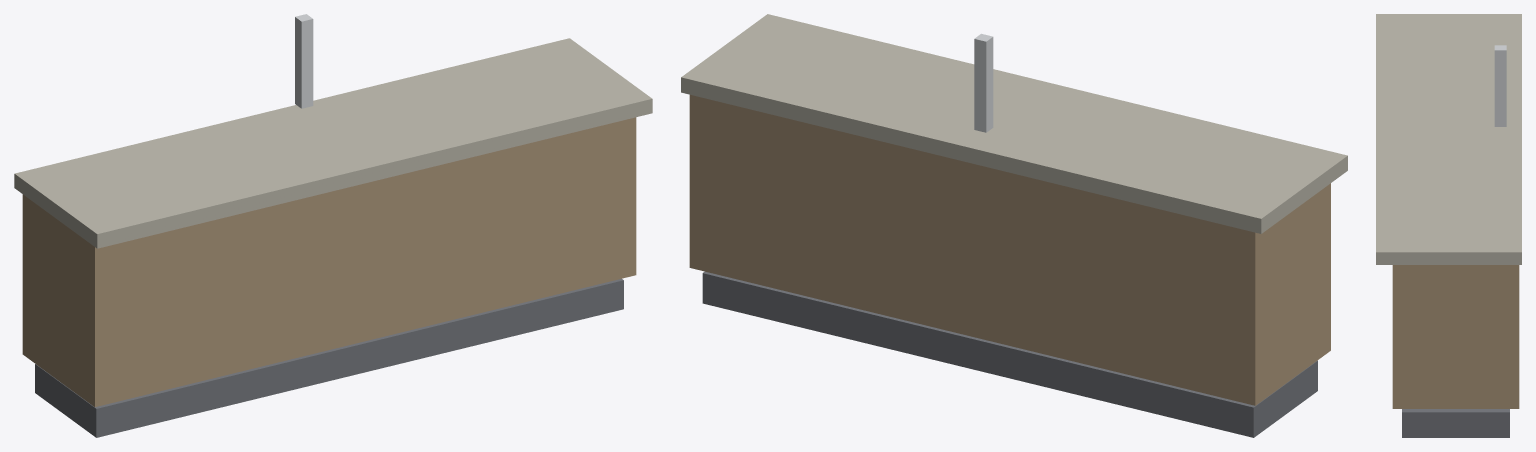
The model's file is mov_2e23c953cf.gltf.
The picture shows the model from 3 angles, left to right: view 1: azimuth 30°, elevation 25°; view 2: azimuth 150°, elevation 25°; view 3: azimuth 270°, elevation 25°; orthographic projection. The views are drawn at different scales.
Parts seen in each view (by area): view 1: mov_2e23c953cf; view 2: mov_2e23c953cf; view 3: mov_2e23c953cf.
Part boxes in pixels (x1,y1,x2,y2): mov_2e23c953cf: (14,14,652,437); mov_2e23c953cf: (681,14,1347,437); mov_2e23c953cf: (1376,14,1521,437).
Bounding box in the file's own units: 2.4 × 1.3 × 0.62.
